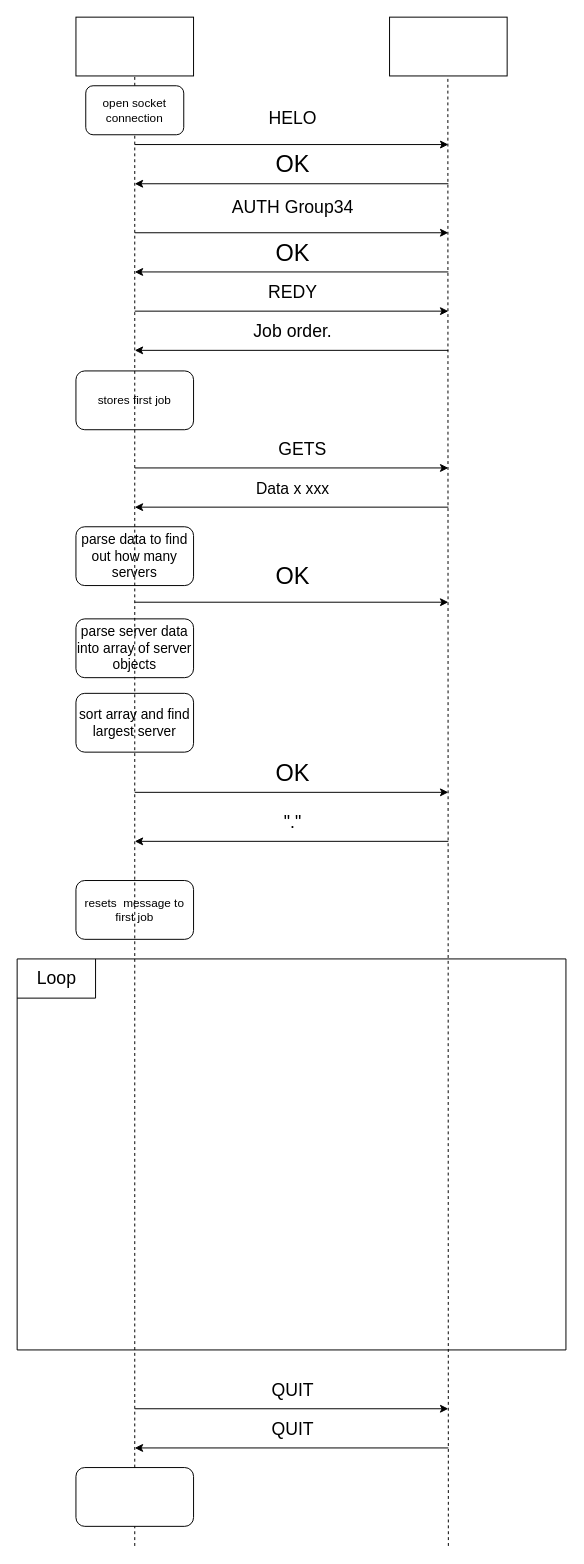
This 584x1564 diagram has some shape labels left out. Here are the shapes that lost their labels. From the top down, the centre of each, then its label:
At pixel 134 46: "Client".
At pixel 448 46: "ds-server".
At pixel 134 1496: "close socket".
